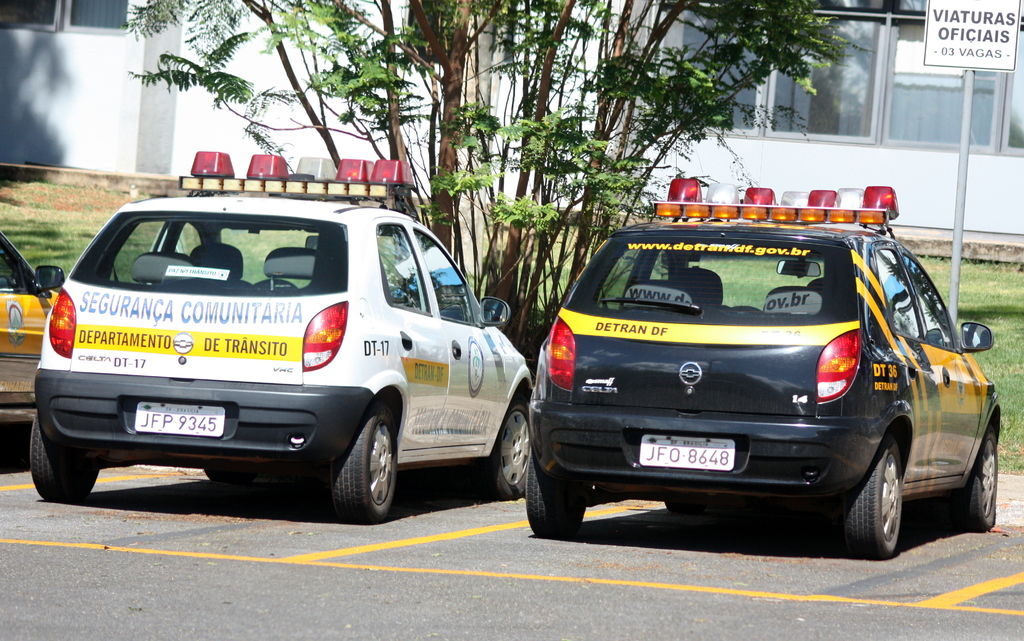cars: (527, 175, 1003, 558), (18, 182, 528, 519), (0, 228, 63, 429)
